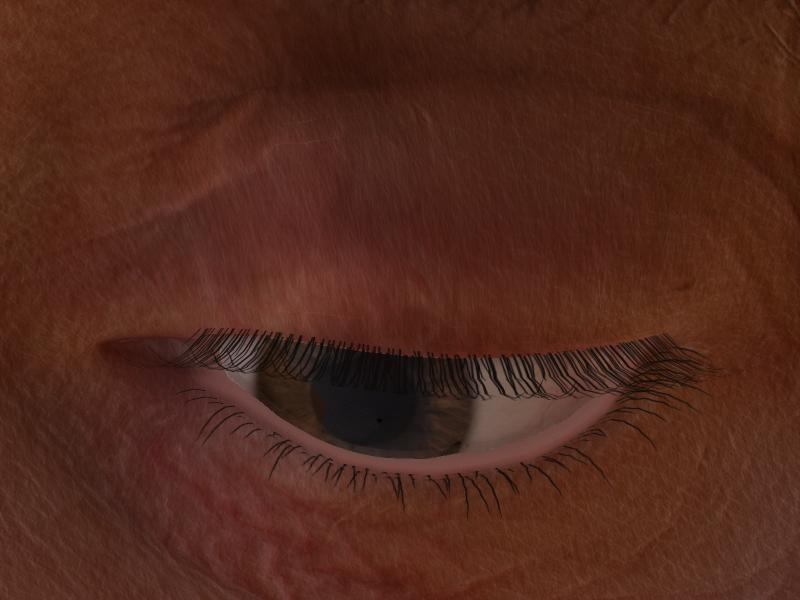eye: (254, 334, 473, 466)
